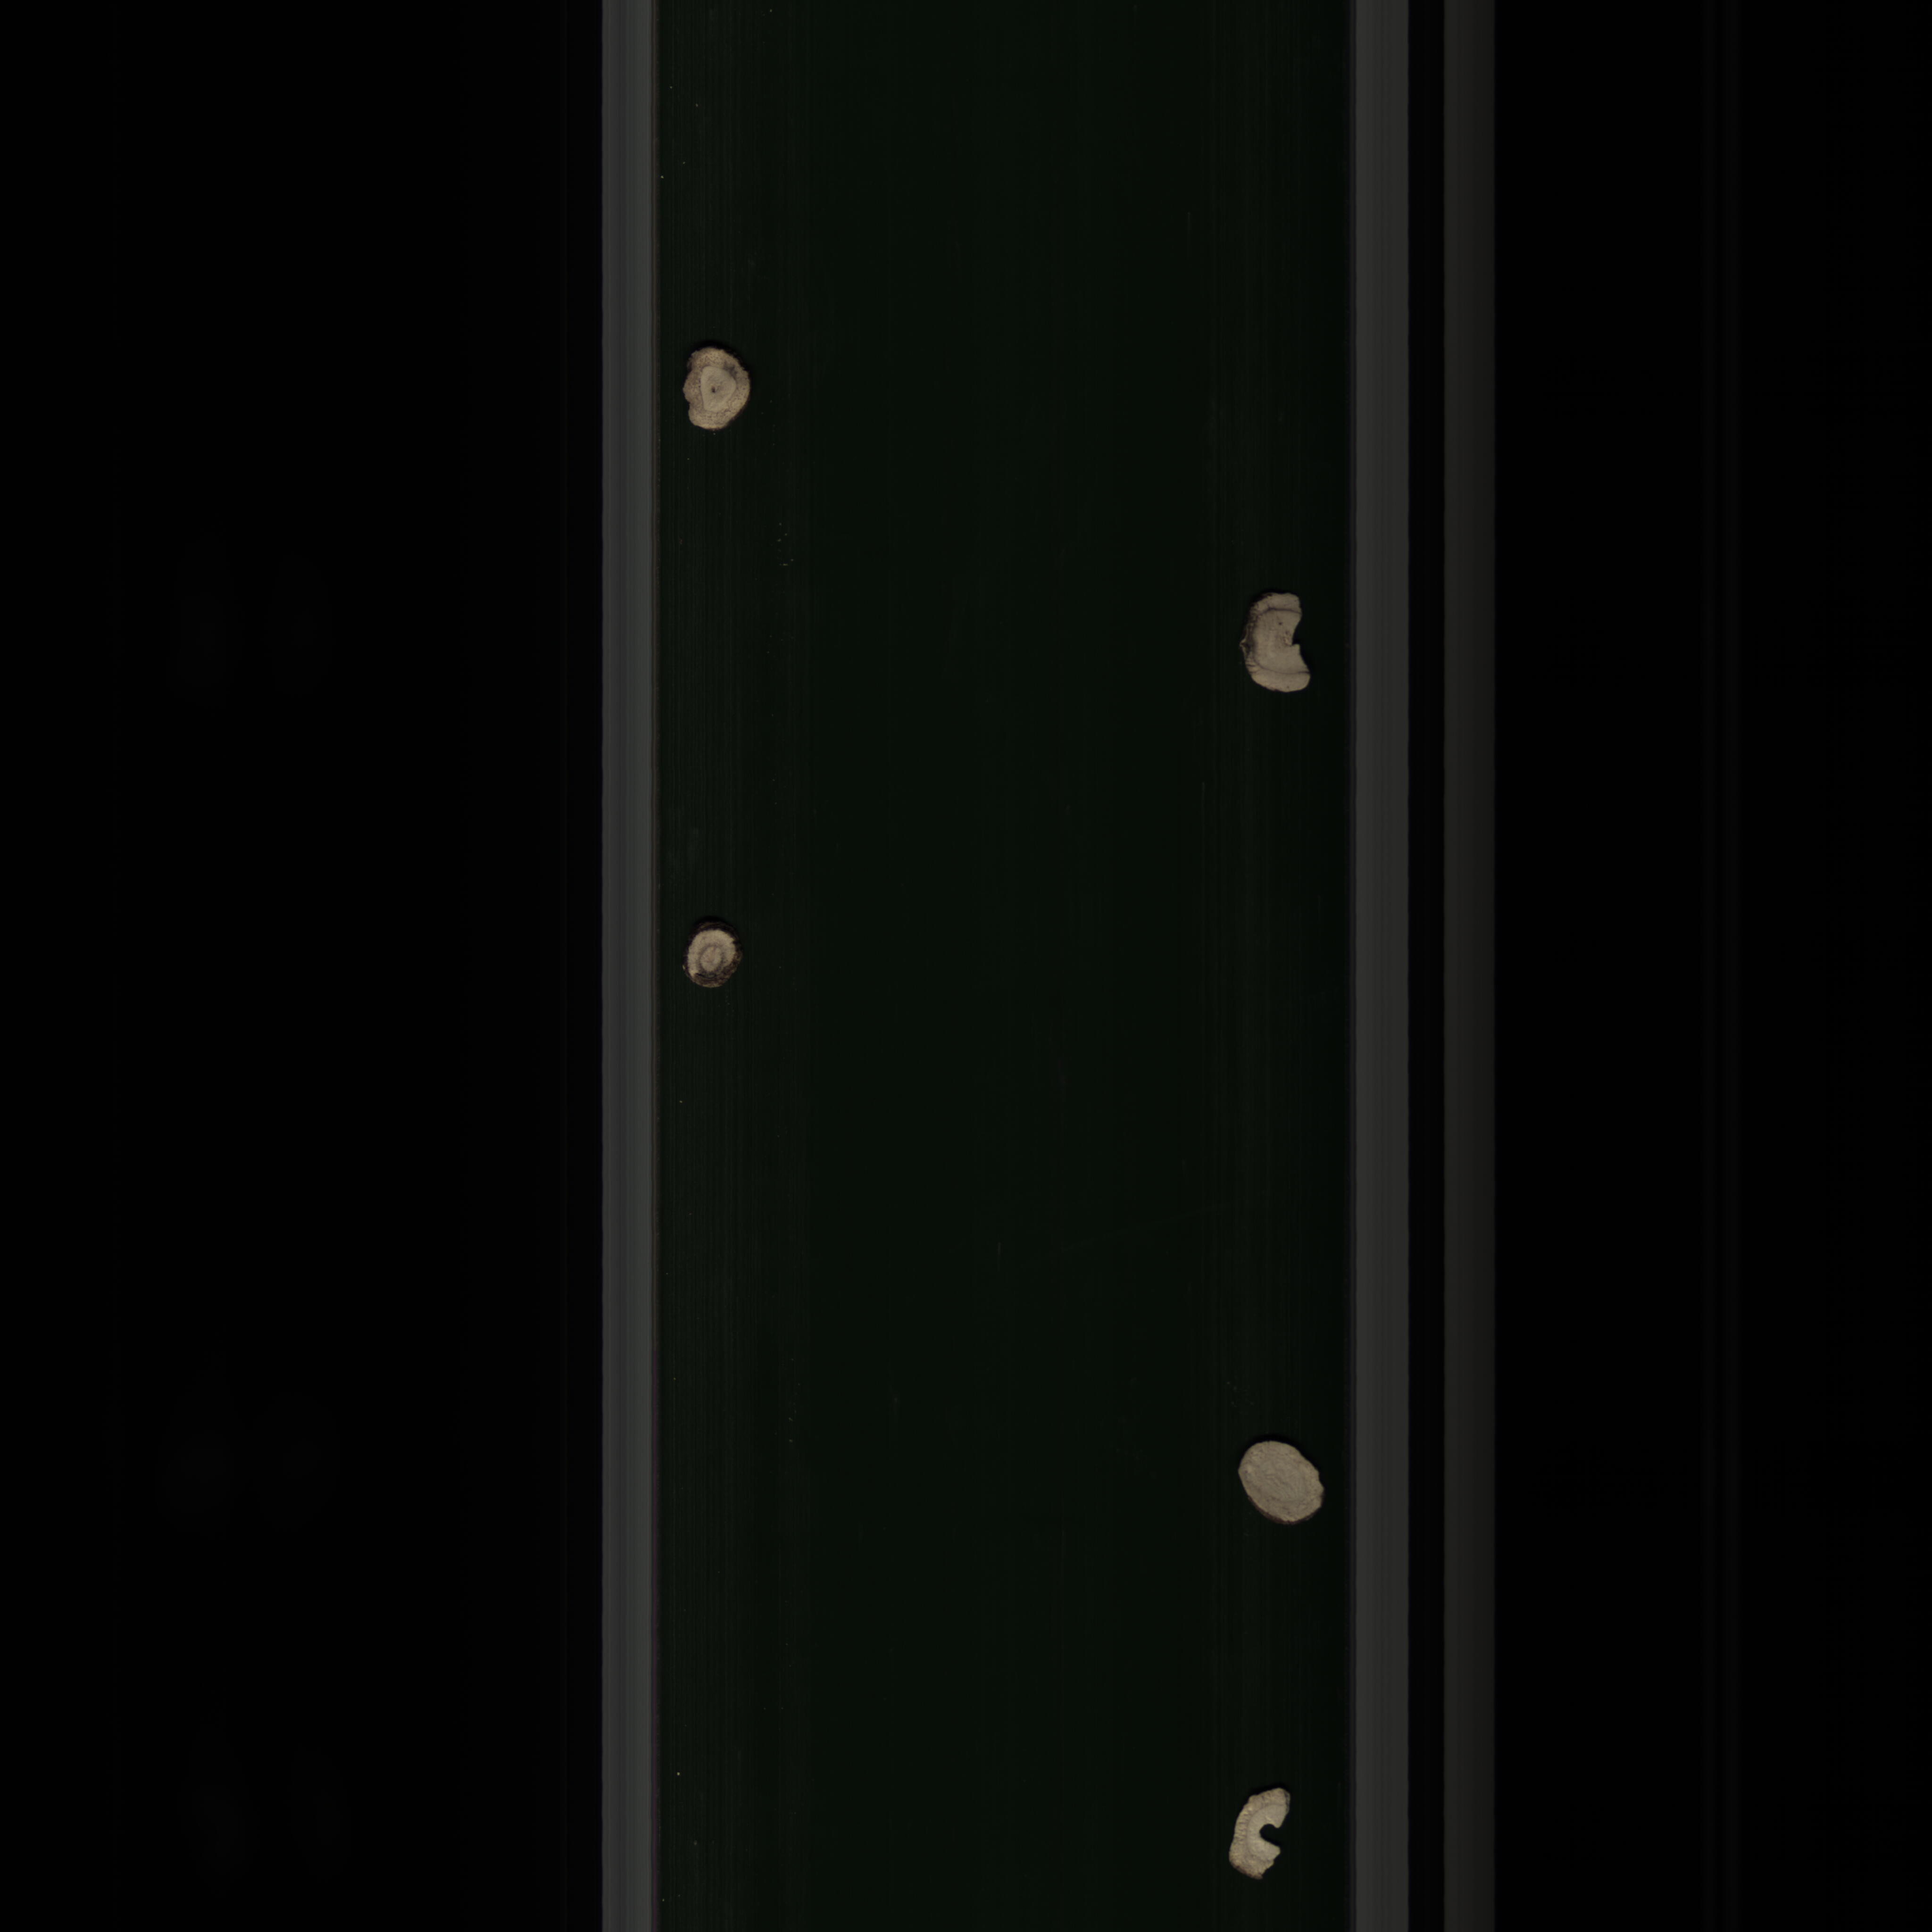debris: (1224, 563, 1323, 702), (679, 340, 761, 442), (1228, 1775, 1299, 1890)
moldy: (660, 904, 750, 1007)
